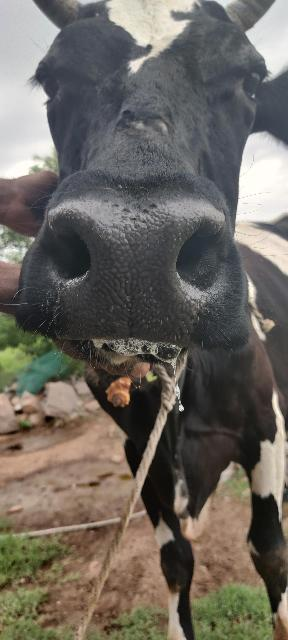Muzzle: (45, 197, 225, 347)
